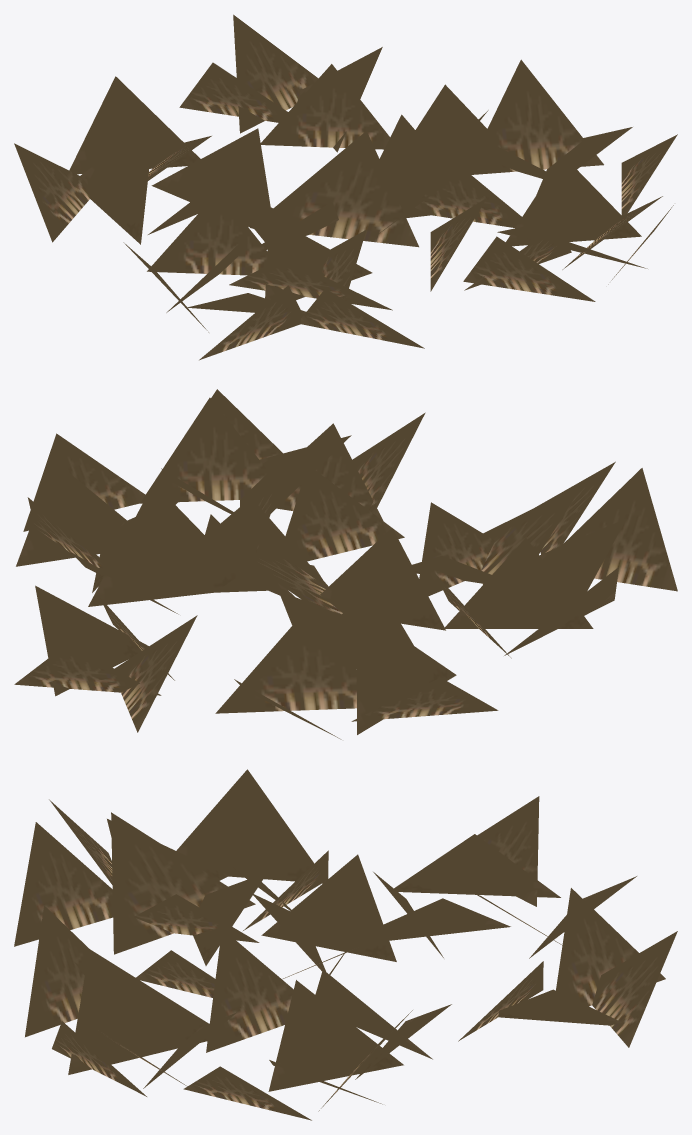
The model's file is dec_dry_grass_01_63364.glb.
3 views of the same model, one above another, from view 1: azimuth 30°, elevation 25°; view 2: azimuth 150°, elevation 25°; view 3: azimuth 270°, elevation 25° (orthographic). The views are drawn at different scales.
Parts seen in each view (by area): view 1: dry_grass_01_mesh; view 2: dry_grass_01_mesh; view 3: dry_grass_01_mesh.
Part boxes in pixels (<box>): dry_grass_01_mesh: <box>14,14,677,360</box>; dry_grass_01_mesh: <box>14,389,677,739</box>; dry_grass_01_mesh: <box>14,769,677,1120</box>.
Size of the model in its own units: 2.08 by 0.297 by 2.09.
1 material, 1 textured.
